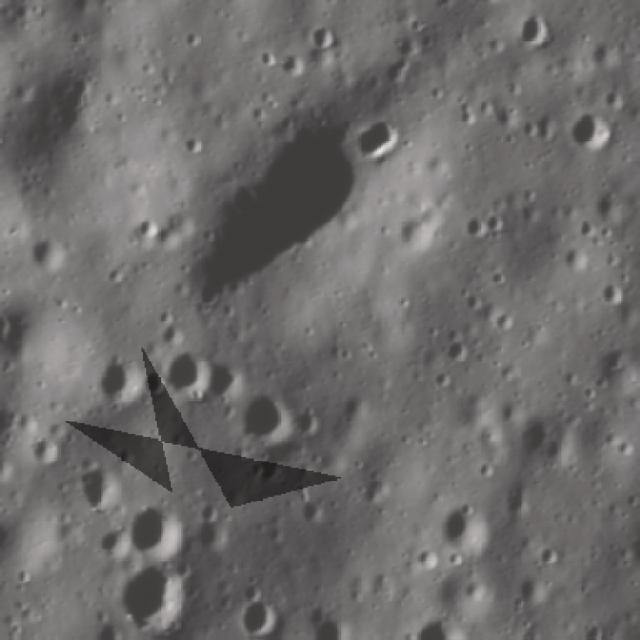crater: (171, 86, 360, 312), (122, 567, 190, 633), (121, 494, 188, 560), (163, 334, 223, 400), (233, 394, 299, 451), (86, 352, 146, 413), (514, 411, 572, 466), (351, 113, 412, 165), (28, 224, 78, 279), (438, 502, 489, 552), (207, 354, 255, 404), (572, 110, 618, 161), (193, 504, 230, 562), (86, 518, 128, 564), (236, 600, 281, 637), (513, 14, 556, 52), (27, 430, 64, 472), (302, 23, 344, 54), (597, 276, 628, 313), (279, 50, 312, 81), (459, 210, 488, 245), (563, 248, 594, 277)
